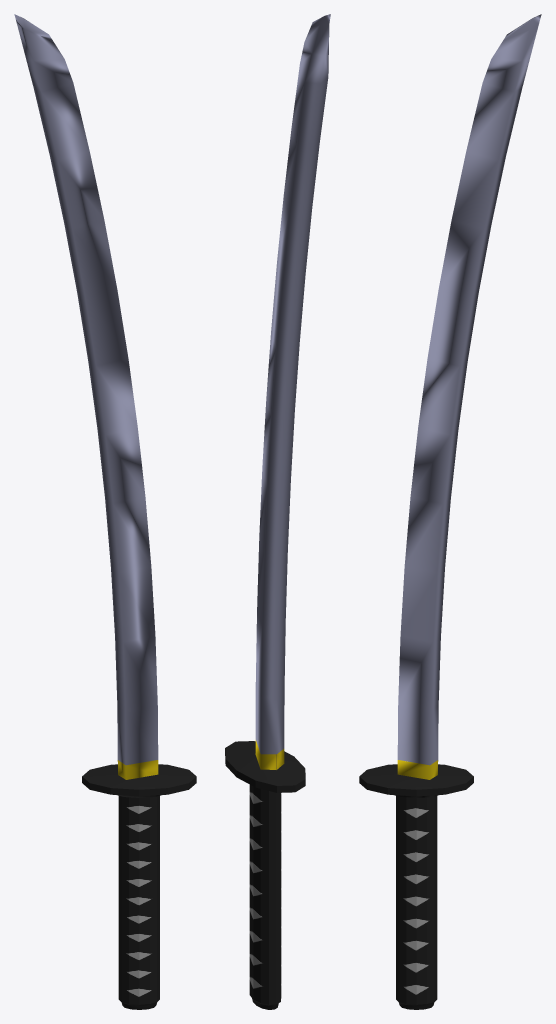
Rendered from mithril_katana.glb.
3 views of the same model, side by side, from view 1: azimuth 90°, elevation 25°; view 2: azimuth 210°, elevation 25°; view 3: azimuth 270°, elevation 25° (orthographic). The views are drawn at different scales.
Visible parts, largest first — view 1: Steel Katana; view 2: Steel Katana; view 3: Steel Katana.
Boxes of the visible parts, x1,y1,x2,y2 form: Steel Katana: (14,14,196,1009); Steel Katana: (225,14,330,1009); Steel Katana: (359,14,541,1009).
Bounding box in the file's own units: 0.0388 × 0.669 × 0.1115.
2 materials, 1 textured.
